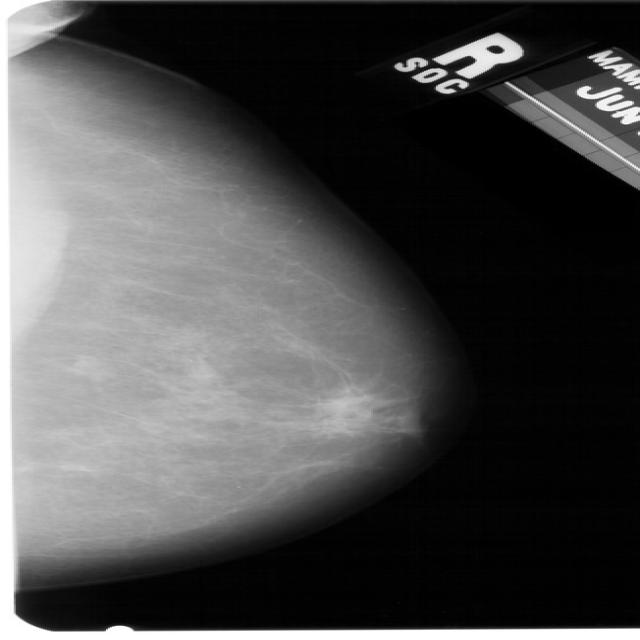tumour: (67, 352, 112, 379)
